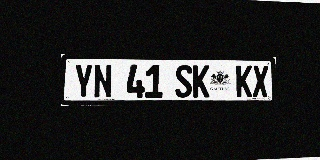1: (145, 65, 163, 98)
4: (127, 64, 144, 98)
K: (193, 65, 209, 98), (236, 65, 252, 97)
N: (94, 64, 112, 98)
S: (175, 65, 192, 98)
X: (253, 65, 268, 97)
Y: (74, 64, 93, 99)
